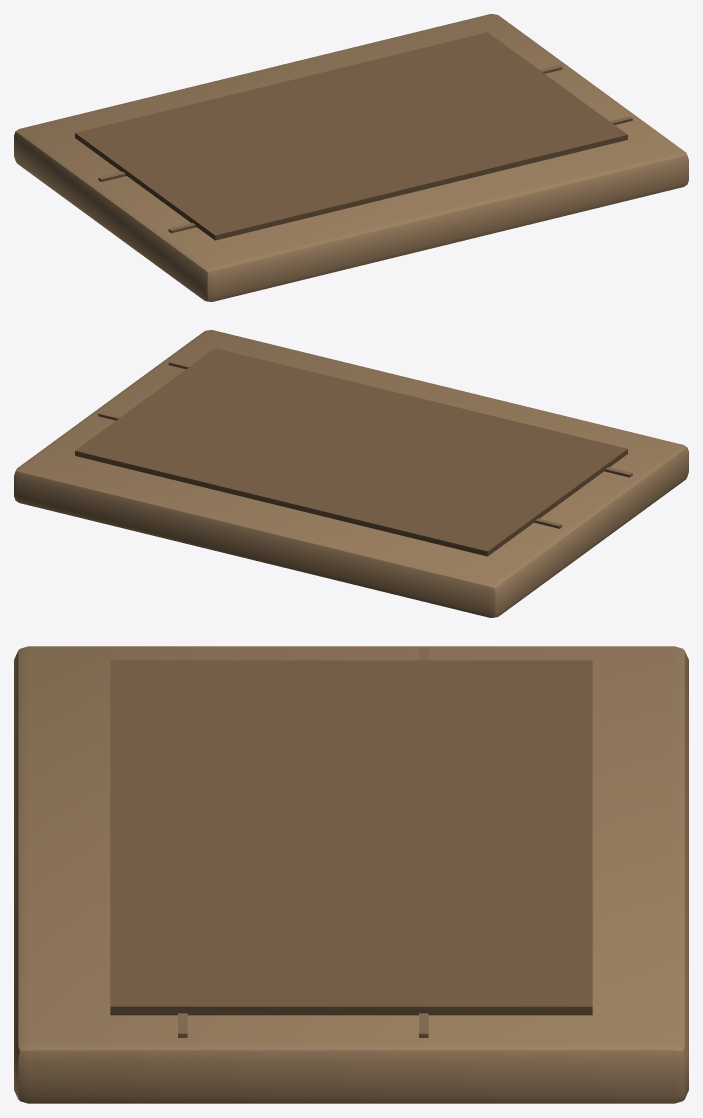
Rendered from chopping_board.glb.
The picture shows the model from 3 angles, top to bottom: view 1: azimuth 30°, elevation 25°; view 2: azimuth 150°, elevation 25°; view 3: azimuth 270°, elevation 25°; orthographic projection. The views are drawn at different scales.
Parts seen in each view (by area): view 1: chopping_board; view 2: chopping_board; view 3: chopping_board.
Boxes of the visible parts, x1,y1,x2,y2 form: chopping_board: [14, 14, 688, 301]; chopping_board: [14, 330, 688, 617]; chopping_board: [14, 646, 688, 1103].
Size of the model in its own units: 0.4 by 0.033 by 0.28.
